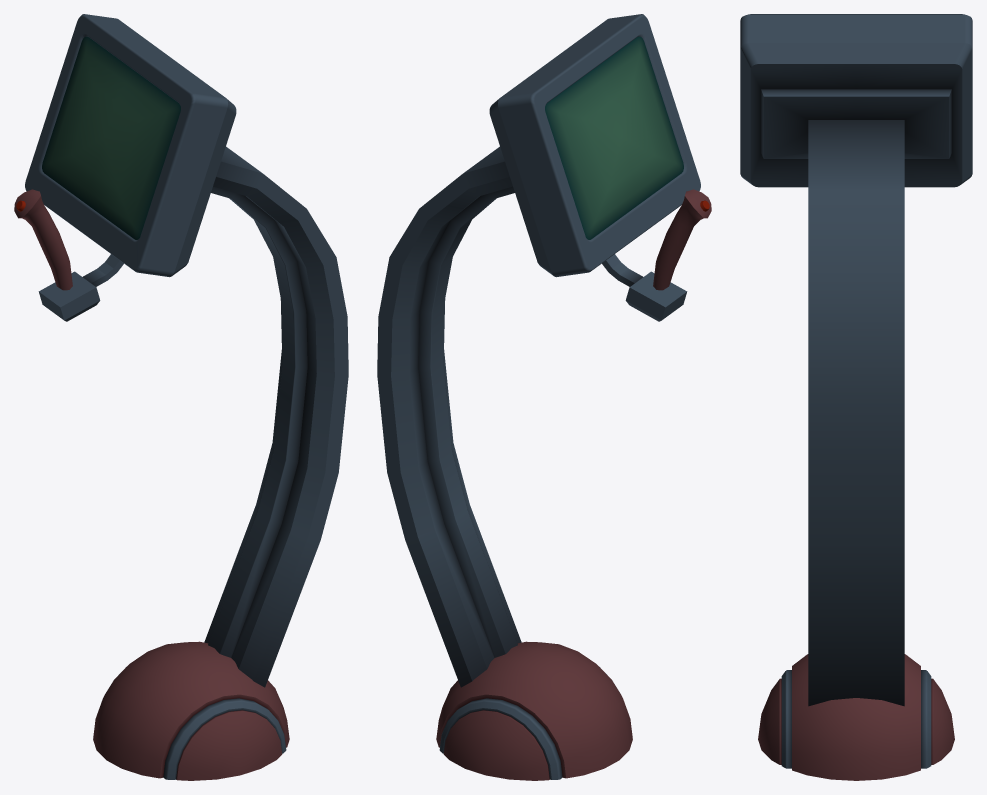
Rendered from Probe Console.fbx.
The picture shows the model from 3 angles, left to right: view 1: azimuth 30°, elevation 25°; view 2: azimuth 150°, elevation 25°; view 3: azimuth 270°, elevation 25°; orthographic projection.
Visible parts, largest first — view 1: Probe Station Console; view 2: Probe Station Console; view 3: Probe Station Console.
Boxes of the visible parts, x1,y1,x2,y2 form: Probe Station Console: [14, 14, 348, 780]; Probe Station Console: [377, 14, 711, 780]; Probe Station Console: [740, 14, 972, 780].
Size of the model in its own units: 104 by 225 by 67.7.
